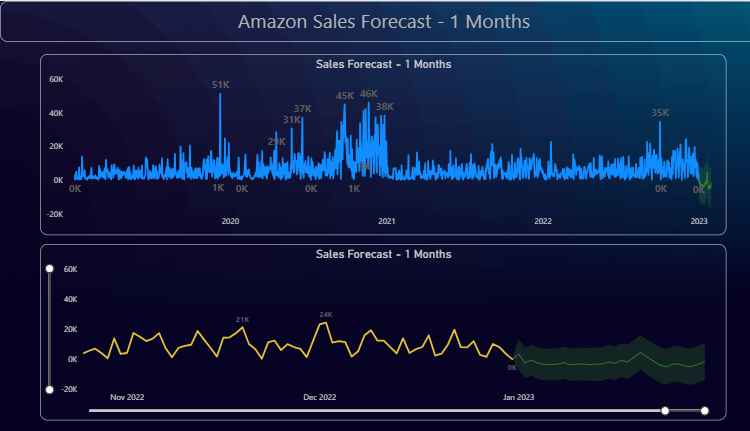

The dashboard page shown, as its layout file describes it:
{"tool":"powerbi","page":{"name":"Page 2","canvas":[1280,720],"ordinal":1},"visuals":[{"type":"lineChart","title":"Sales Forecast - 1 Months","fields":{"Y":["Sum(Amazon_Data.Price(Dollar))"],"Category":["Amazon_Data.Order Date"]},"box":[67.2,89,1143.9,302.4],"z":0},{"type":"lineChart","title":"Sales Forecast - 1 Months","fields":{"Y":["Sum(Amazon_Data.Price(Dollar))"],"Category":["Amazon_Data.Order Date"]},"box":[65,405,1145,293.3],"z":1000},{"type":"textbox","box":[0,0,1280,68.3],"z":2000}]}

Visuals, with their boxes in screenshot pixels (x1, y1, x2, y2), scaled from the page's 1280x720 canvas onto the 750x431 screenshot:
"Sales Forecast - 1 Months" lineChart: [39,53,710,234]
"Sales Forecast - 1 Months" lineChart: [38,242,709,418]
textbox: [0,0,749,41]
